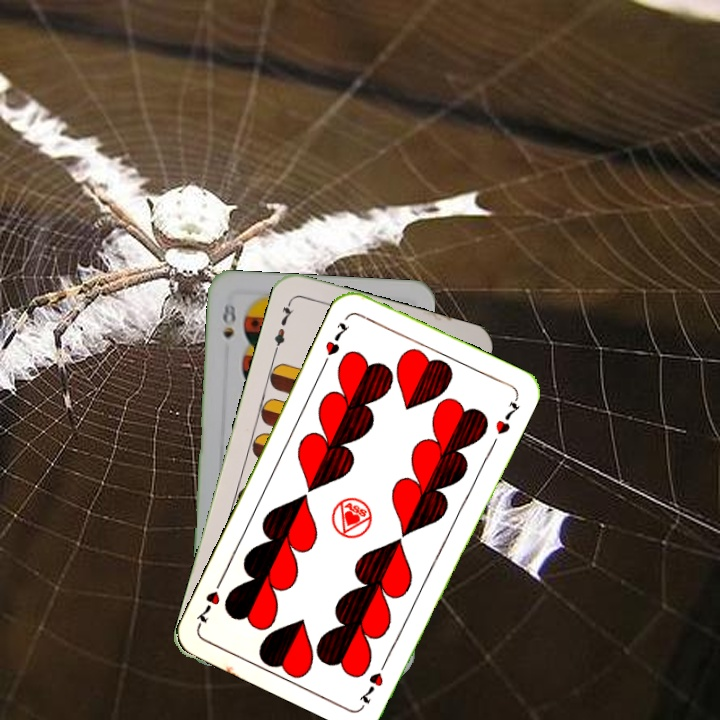E7: (270, 296, 296, 355)
H7: (356, 653, 391, 707), (319, 318, 353, 368)
S8: (218, 299, 239, 341)
